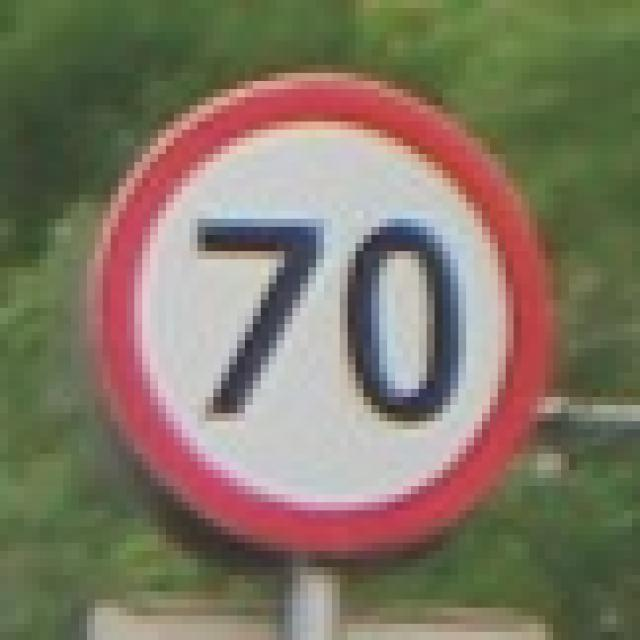Speed Limit -70-: (188, 212, 481, 435)
